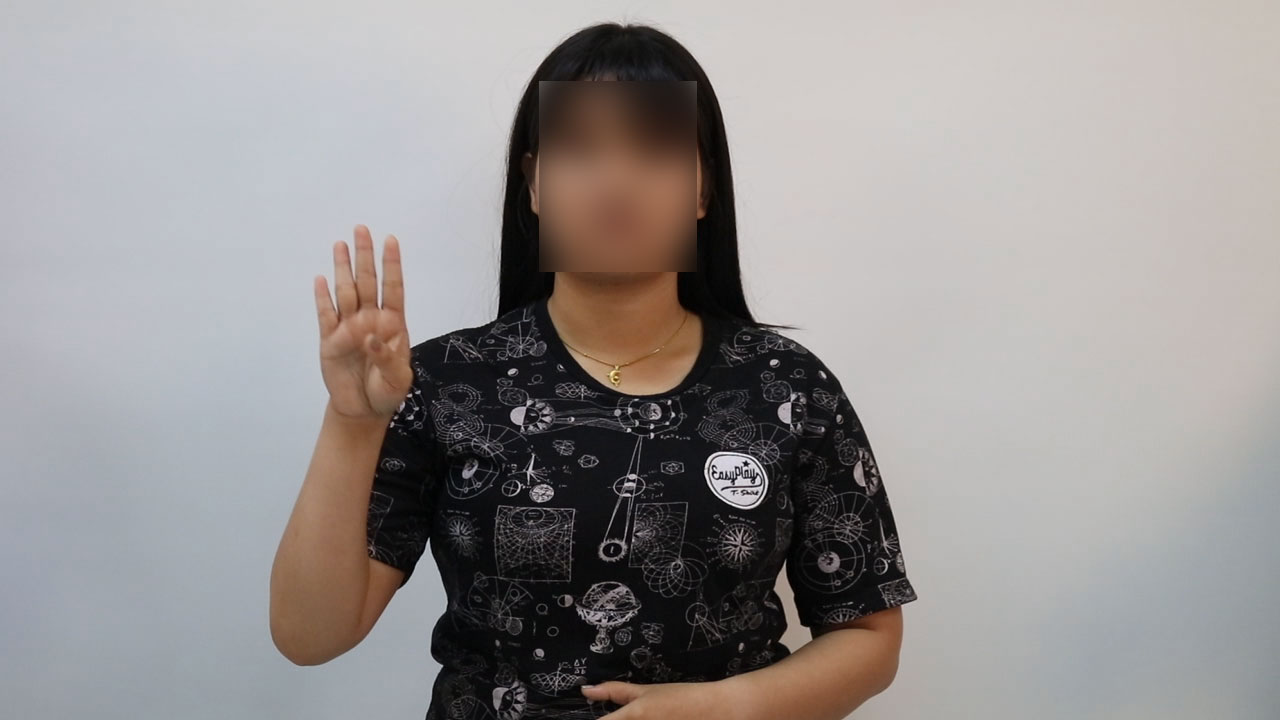bor: (305, 212, 423, 439)
